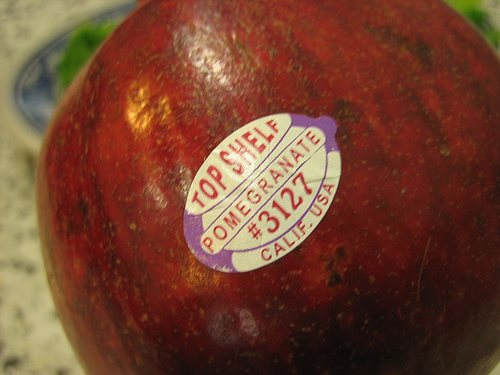pomogranate: (37, 0, 499, 374)
